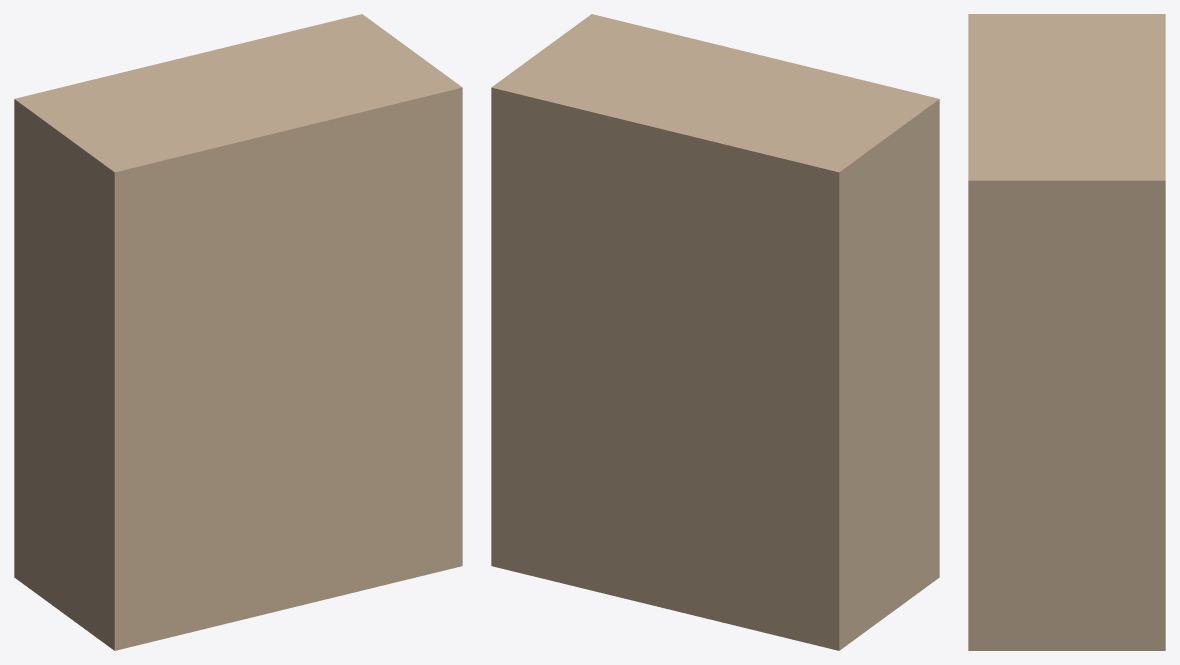
The model's file is FurnitureDemo.gltf.
3 renders of one model, left to right at view 1: azimuth 30°, elevation 25°; view 2: azimuth 150°, elevation 25°; view 3: azimuth 270°, elevation 25°, orthographic.
Parts seen in each view (by area): view 1: Furniture Demo Cabinet; view 2: Furniture Demo Cabinet; view 3: Furniture Demo Cabinet.
Part boxes in pixels (left/top/right/bottom): Furniture Demo Cabinet: left=14, top=14, right=462, bottom=650; Furniture Demo Cabinet: left=491, top=14, right=939, bottom=650; Furniture Demo Cabinet: left=968, top=14, right=1165, bottom=650.
Bounding box in the file's own units: 1.4 × 1.84 × 0.7.
